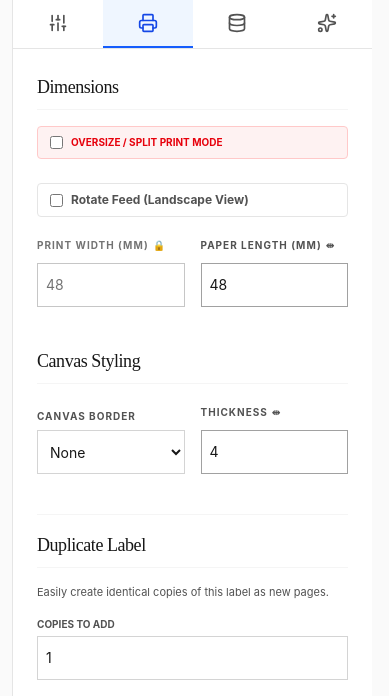
Test: text fields expose names and visible-label associations
Click the tab named "Element and layout". click: point(58, 24)
box: [13,0,103,48]
(page scrolled)
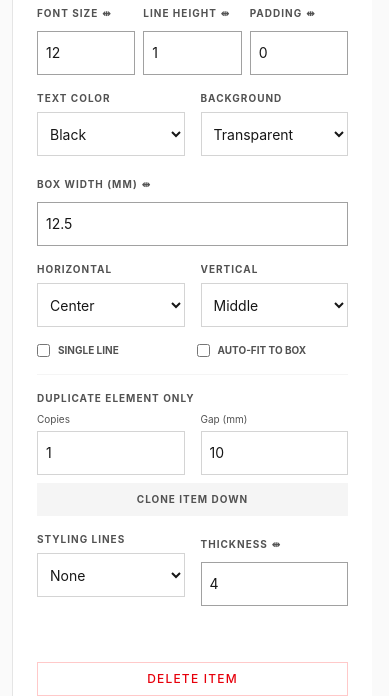
Now the number field labelled "Font Size ⇹" is shown, box [37,31,135,75]
Now the number field labelled "Line Height ⇹" is shown, box [143,31,242,75]
Now the number field labelled "Padding ⇹" is shown, box [250,31,348,75]
